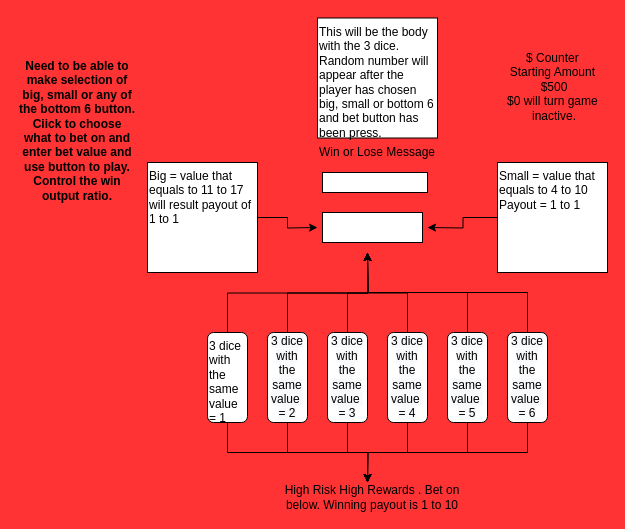
The diagram is 625 pixels wide and 529 high, and some of its shapes have lost their labels. Each missing label, with the centre of its shape:
"Bet Button to play" goes at point (372, 227).
"Input Bet Amount" goes at point (375, 182).
